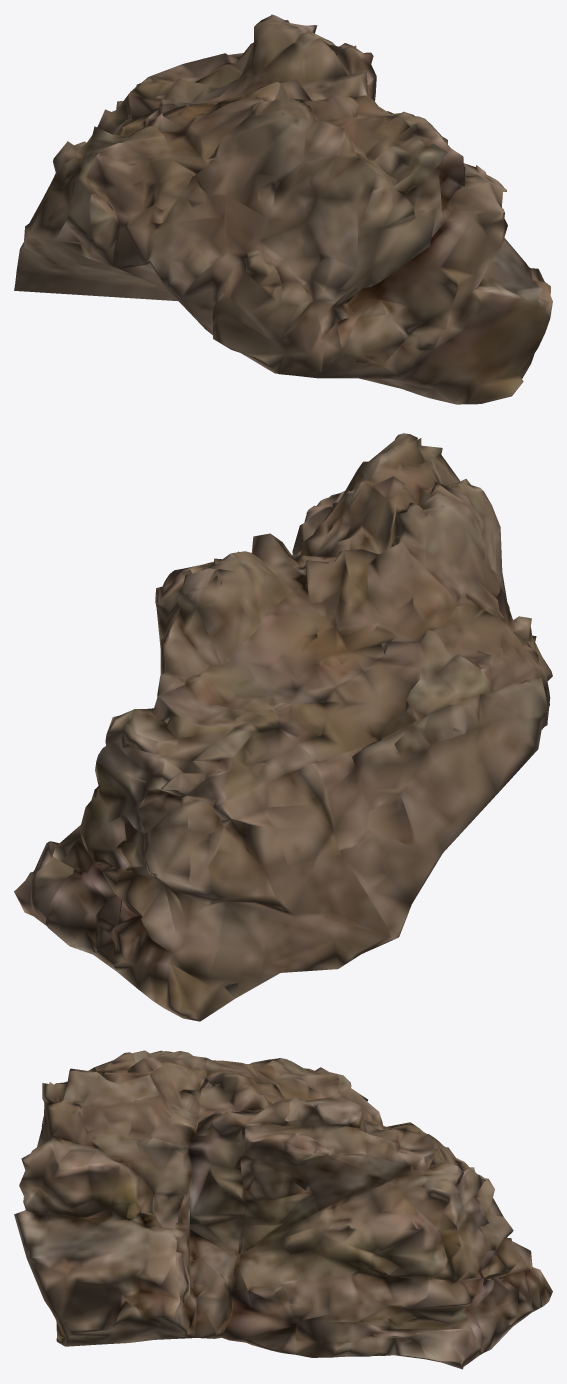
The model's file is rock.glb.
3 renders of one model, top to bottom at view 1: azimuth 30°, elevation 25°; view 2: azimuth 150°, elevation 25°; view 3: azimuth 270°, elevation 25°, orthographic. The views are drawn at different scales.
Parts seen in each view (by area): view 1: boulder_01; view 2: boulder_01; view 3: boulder_01.
Boxes of the visible parts, x1,y1,x2,y2 form: boulder_01: [14, 14, 552, 404]; boulder_01: [14, 433, 552, 1021]; boulder_01: [14, 1050, 552, 1369].
Bounding box in the file's own units: 1.26 × 0.9967 × 1.83.
Materials: 1 (1 with a texture image).
